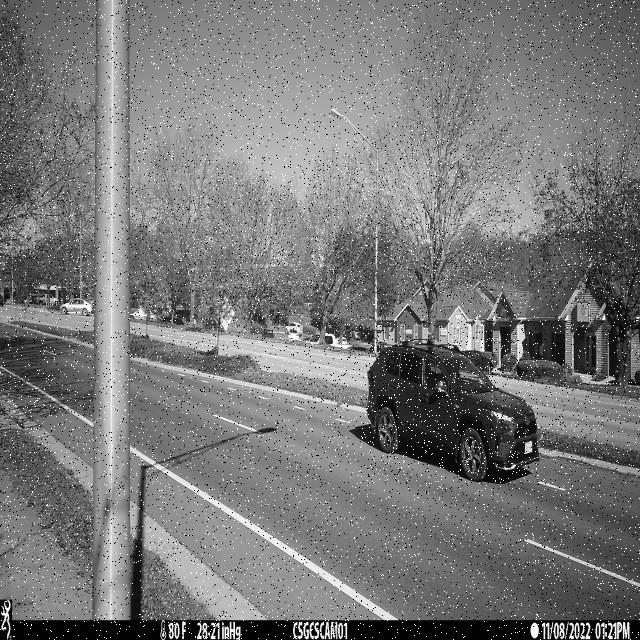SUV: (365, 339, 540, 482)
